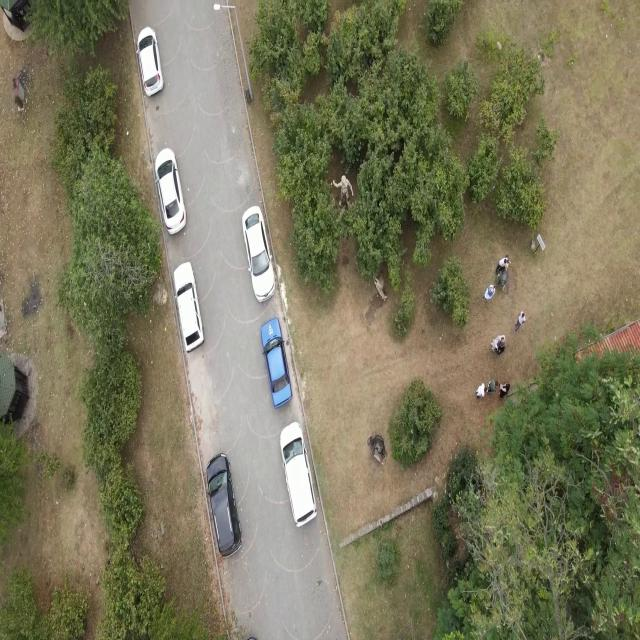people: (515, 312, 526, 332), (484, 284, 496, 300), (474, 384, 486, 398), (499, 383, 510, 397), (496, 258, 506, 272), (488, 380, 498, 393), (491, 335, 501, 348), (498, 339, 505, 354)
